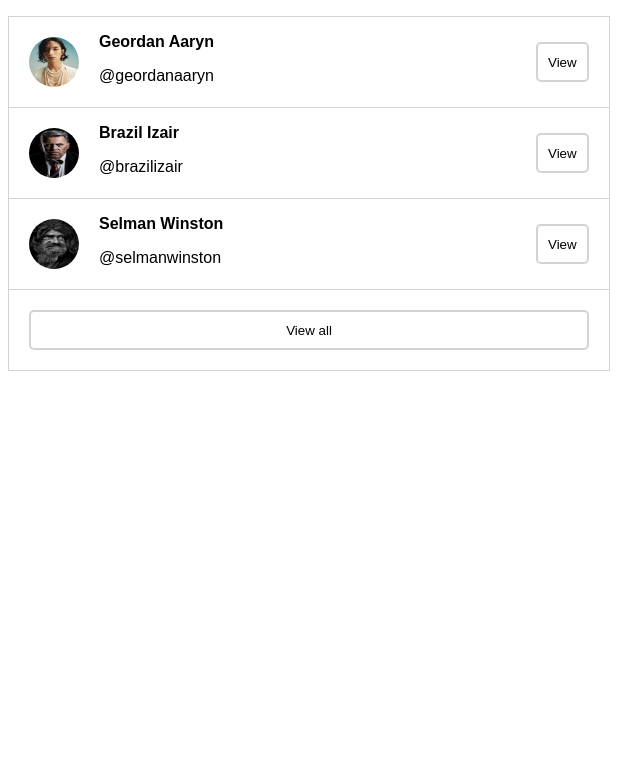
Scenario: All 10 widgets are displayed after click on View all button
The width and height of the screenshot is (627, 762).
Click the button "View all".
click(309, 330)  # box top-left (29, 310), bottom-right (589, 350)
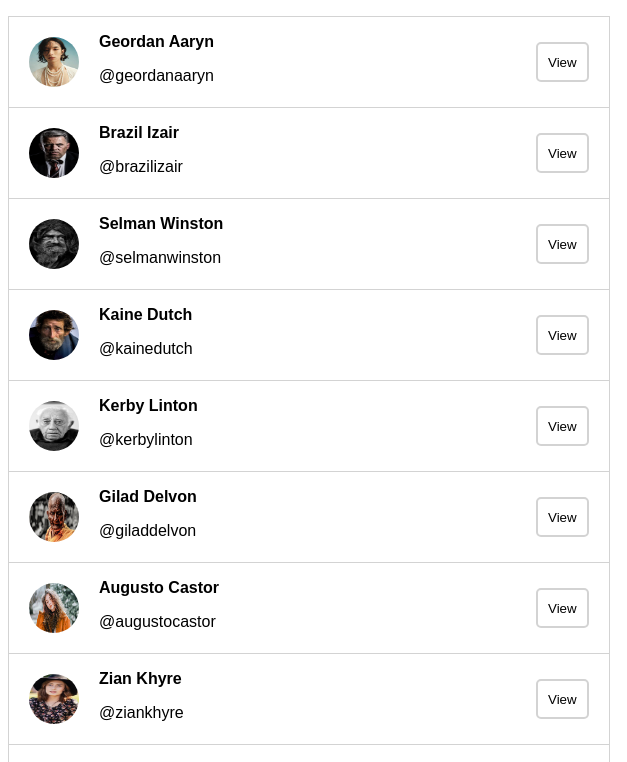
Now the number of buttons "View" is 10
